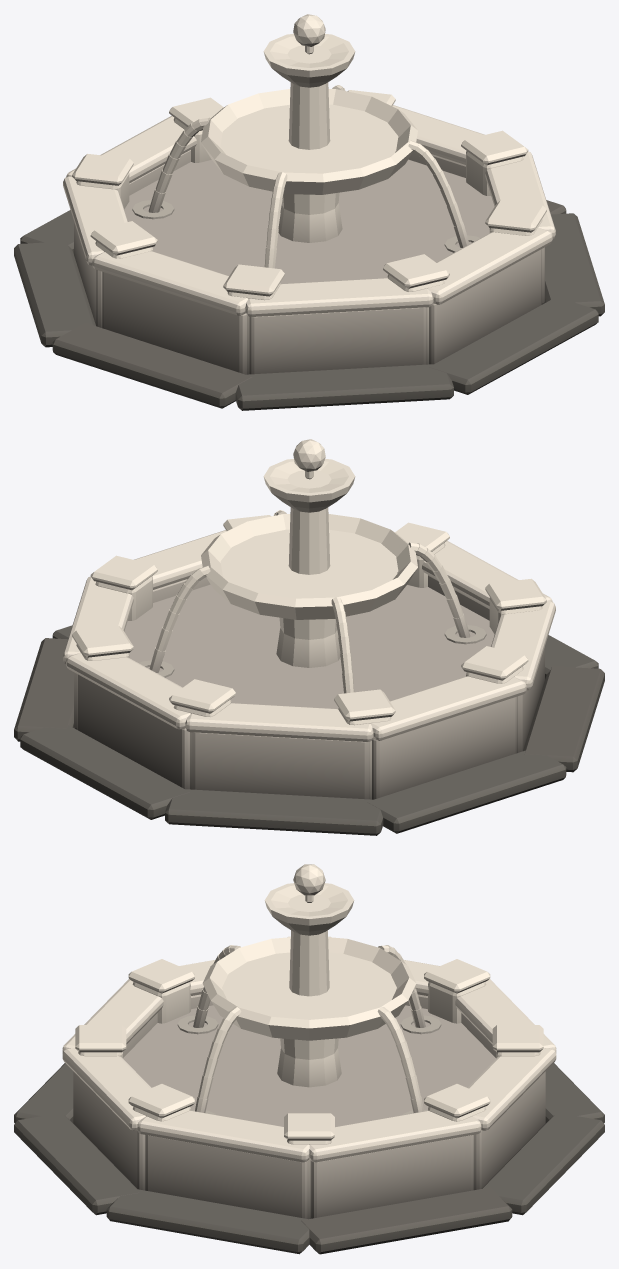
The model's file is SM_VK_Prop_Fountain.fbx.
3 views of the same model, one above another, from view 1: azimuth 30°, elevation 25°; view 2: azimuth 150°, elevation 25°; view 3: azimuth 270°, elevation 25° (orthographic). The views are drawn at different scales.
Visible parts, largest first — view 1: SM_VK_Prop_Fountain.001; view 2: SM_VK_Prop_Fountain.001; view 3: SM_VK_Prop_Fountain.001.
Boxes of the visible parts, bbox=[...] form: SM_VK_Prop_Fountain.001: bbox=[14, 14, 604, 410]; SM_VK_Prop_Fountain.001: bbox=[14, 439, 604, 835]; SM_VK_Prop_Fountain.001: bbox=[14, 864, 604, 1254].
Size of the model in its own units: 5.8 by 2.88 by 5.8.
